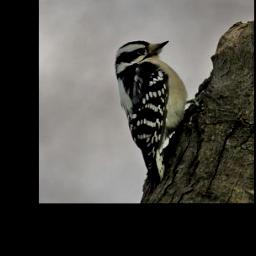Woodpecker: (112, 36, 212, 198)
